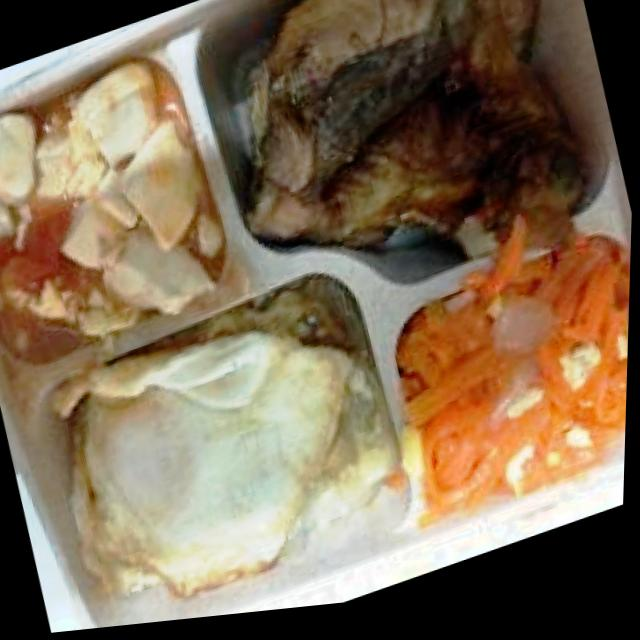carrot_eggs: (351, 183, 633, 549)
fried_eggs: (28, 261, 423, 635)
